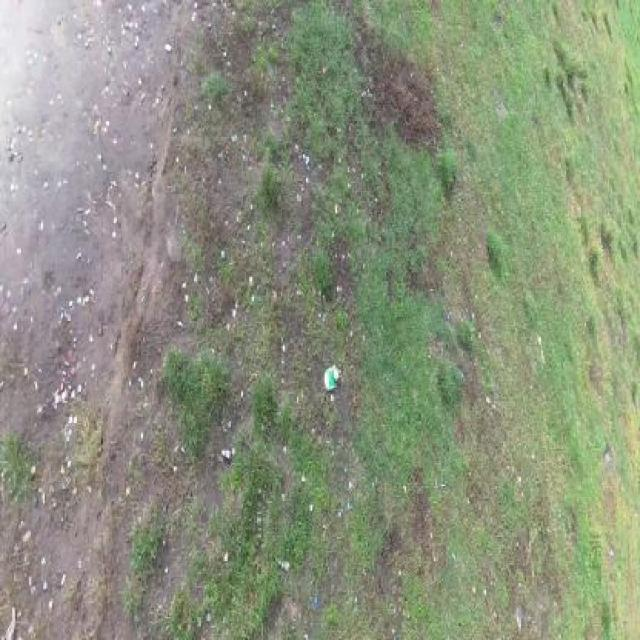Garbage: (323, 361, 341, 392), (221, 449, 232, 460)
